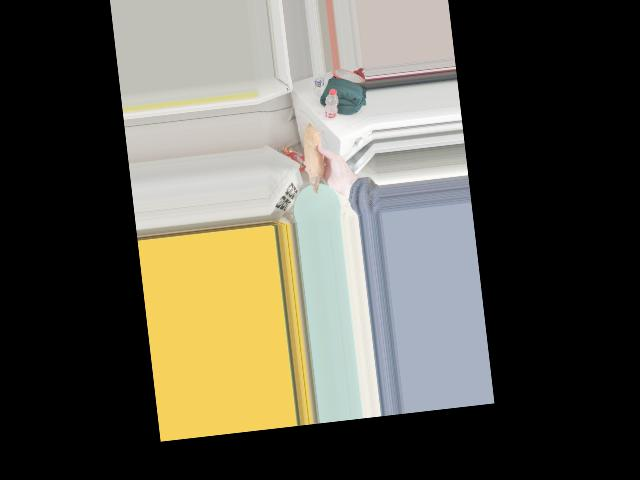sweet_potato: (302, 124, 325, 186)
